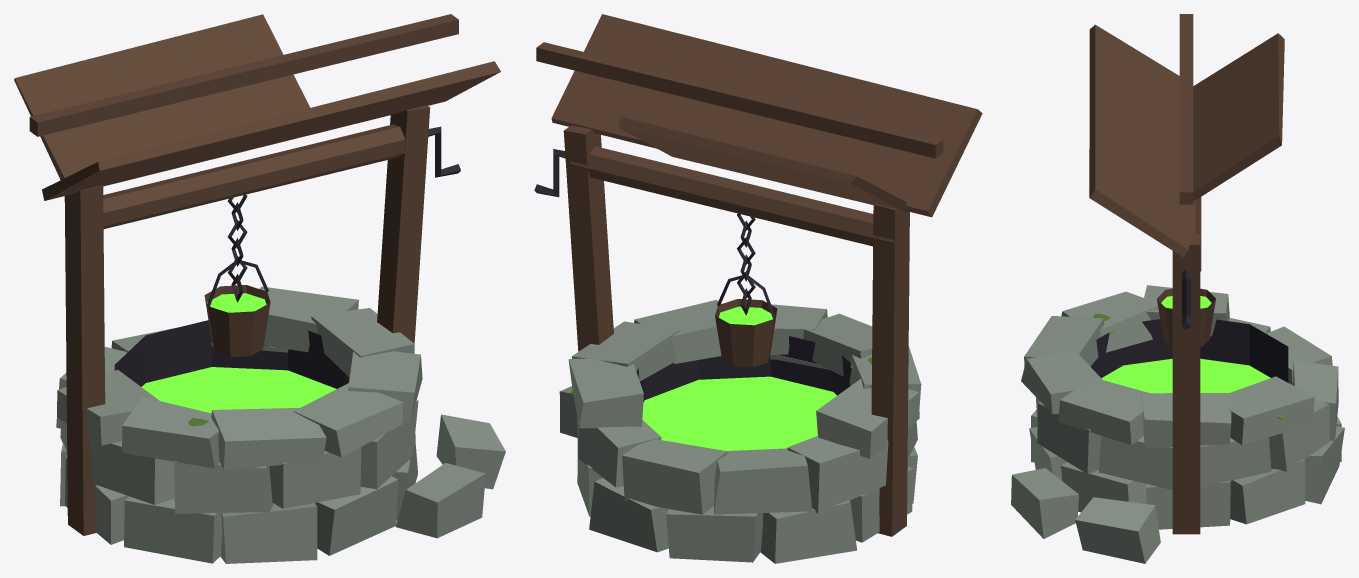
File: haunted_well.glb
3 renders of one model, left to right at view 1: azimuth 30°, elevation 25°; view 2: azimuth 150°, elevation 25°; view 3: azimuth 270°, elevation 25°, orthographic. The views are drawn at different scales.
Parts seen in each view (by area): view 1: haunted_well; view 2: haunted_well; view 3: haunted_well.
Boxes of the visible parts, left/top/right/bottom form: haunted_well: left=14, top=14, right=505, bottom=563; haunted_well: left=534, top=14, right=982, bottom=563; haunted_well: left=1011, top=14, right=1344, bottom=563.
Bounding box in the file's own units: 1.88 × 1.79 × 1.46.
